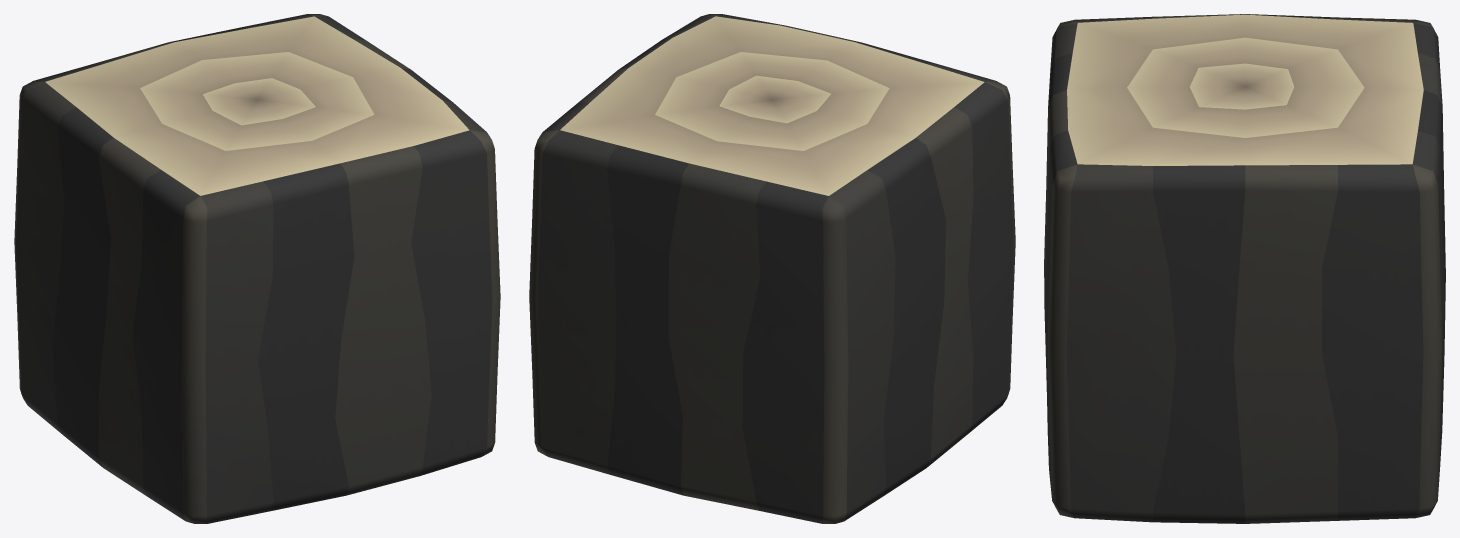
Rendered from ColdWood_Log1.fbx.
The picture shows the model from 3 angles, left to right: view 1: azimuth 30°, elevation 25°; view 2: azimuth 150°, elevation 25°; view 3: azimuth 270°, elevation 25°; orthographic projection. The views are drawn at different scales.
Visible parts, largest first — view 1: ColdWood_Log1_LOD0; view 2: ColdWood_Log1_LOD0; view 3: ColdWood_Log1_LOD0.
Boxes of the visible parts, left/top/right/bottom form: ColdWood_Log1_LOD0: left=14, top=14, right=500, bottom=523; ColdWood_Log1_LOD0: left=529, top=14, right=1015, bottom=523; ColdWood_Log1_LOD0: left=1044, top=14, right=1445, bottom=523.
Size of what is drawn, in the model's own units: 1.09 by 1.09 by 1.09.
